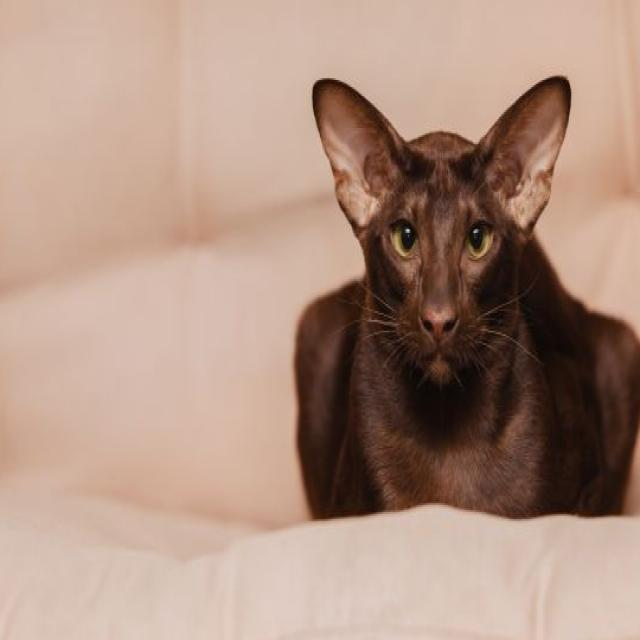Oriental: (289, 68, 640, 524)
